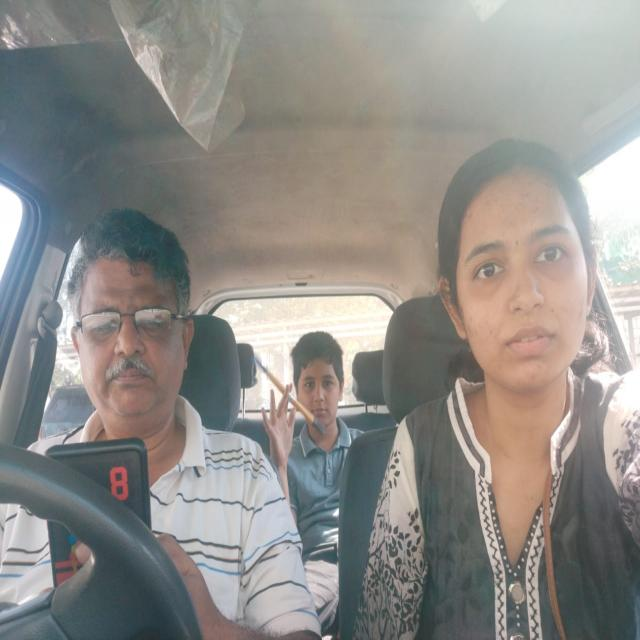mobile: (38, 435, 170, 592)
person: (426, 135, 604, 398), (58, 214, 200, 436), (288, 338, 352, 441)
